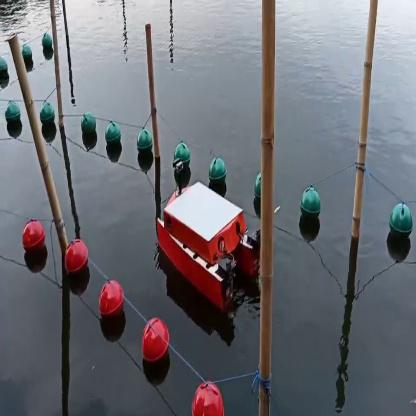green_buoy: (389, 194, 411, 245), (299, 186, 319, 226), (135, 127, 155, 158), (103, 120, 122, 150), (208, 156, 224, 188), (5, 103, 22, 124), (79, 116, 94, 137), (176, 142, 190, 161), (41, 109, 53, 130), (0, 59, 10, 83), (255, 174, 259, 210), (21, 46, 29, 64), (43, 34, 50, 52)
red_buoy: (96, 280, 127, 326), (18, 219, 49, 262), (145, 316, 170, 364), (192, 380, 224, 415), (61, 240, 91, 277)
